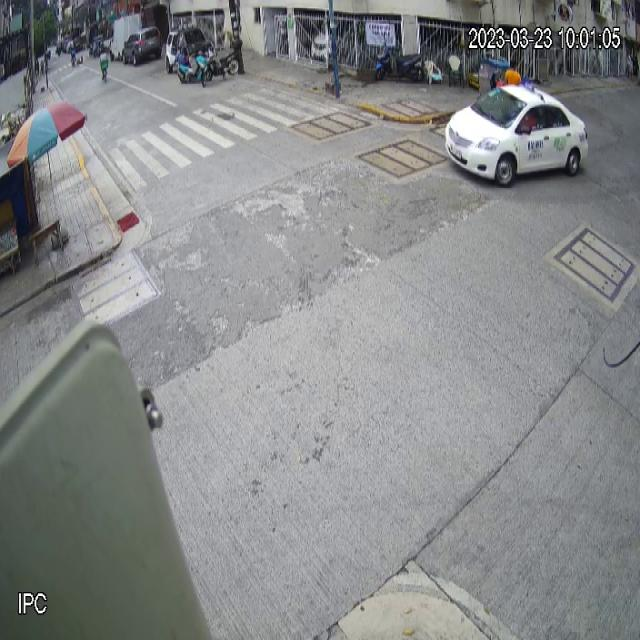Car: (445, 81, 588, 188)
